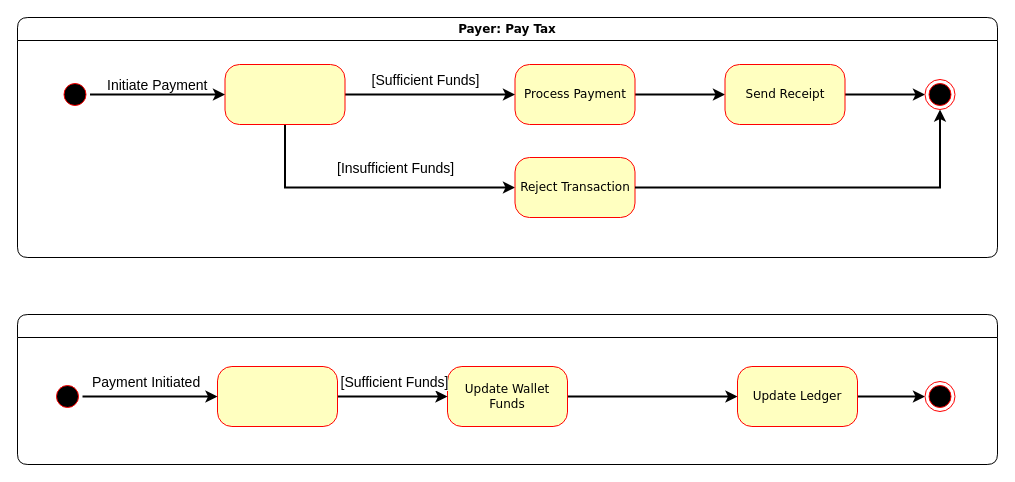
Image size: 1015x482. Some labels were removed from this diagram. The box of each missing label's shape, as (x1, y1, x2, y2) in pixels:
Get Payment Confirmation: (216, 366, 338, 426)
Institution: Receive Tax Payment: (16, 314, 998, 464)
Verify Wallet Funds: (224, 64, 345, 124)
